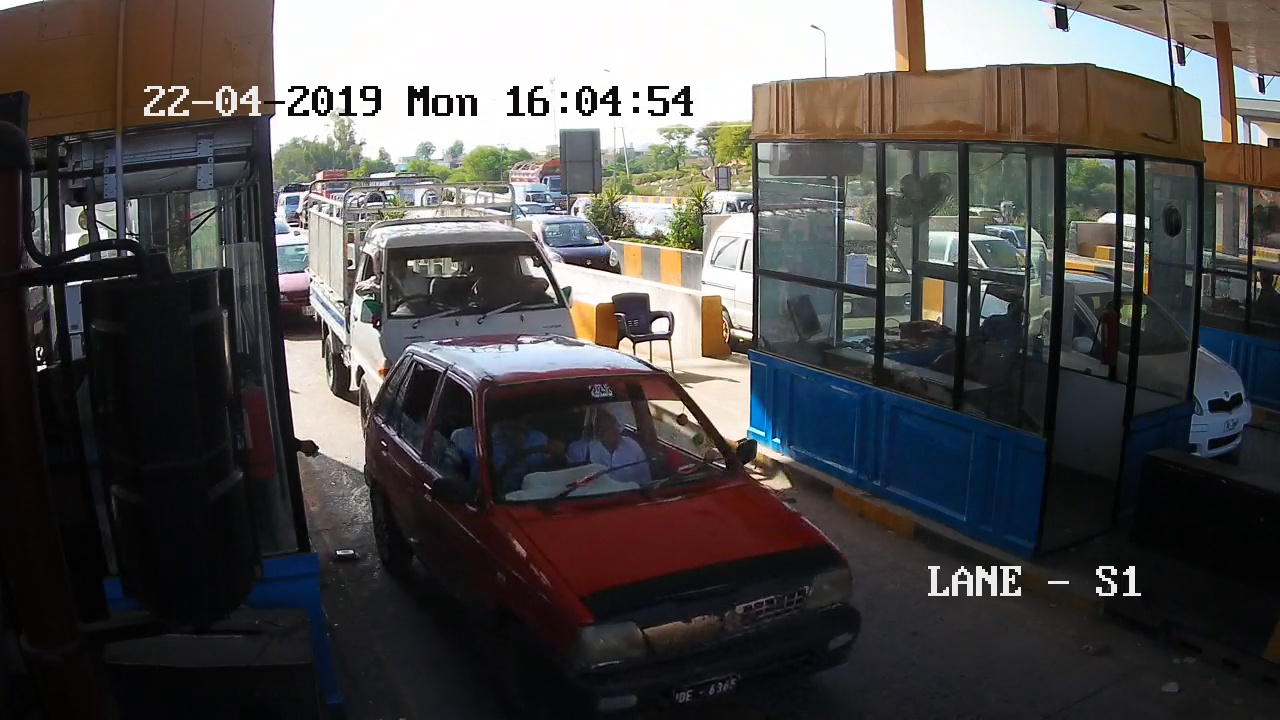Number Plate (Car): (670, 680, 738, 704)
